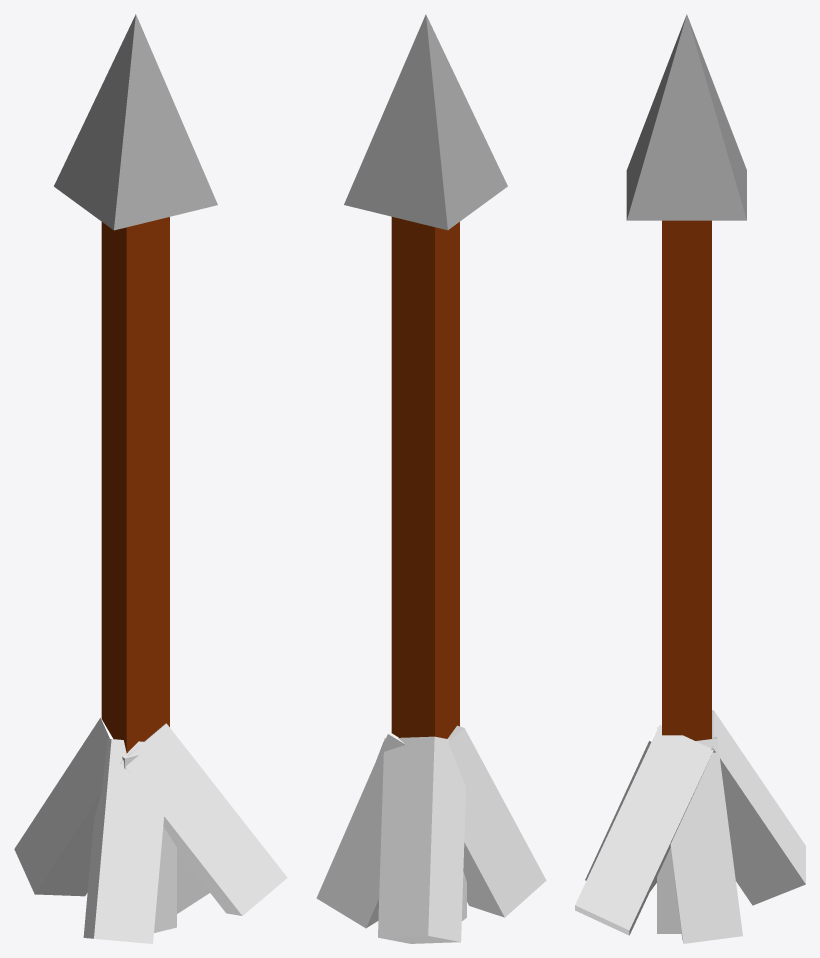
File: Arrow.gltf
3 renders of one model, left to right at view 1: azimuth 30°, elevation 25°; view 2: azimuth 150°, elevation 25°; view 3: azimuth 270°, elevation 25°, orthographic.
Parts seen in each view (by area): view 1: mesh (×2), feathers; view 2: mesh (×2), feathers; view 3: mesh (×2), feathers.
Boxes of the visible parts, x1,y1,x2,y2 form: mesh (×2): (54,14,217,753); feathers: (14,717,287,943); mesh (×2): (344,14,507,738); feathers: (316,725,546,943); mesh (×2): (626,14,746,740); feathers: (575,710,805,943).
Bounding box in the file's own units: 0.1354 × 0.6251 × 0.1442.
2 materials, 2 textured.
